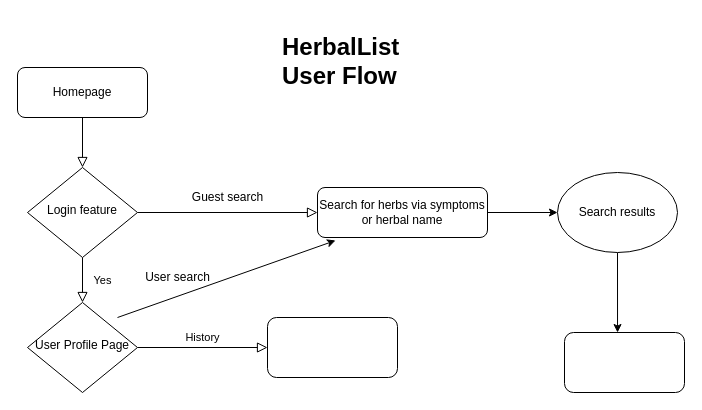
This 702x410 diagram has some shape labels left out. The centre of each missing label's shape, as x and y in pixels:
User can see previous herbs used/bookmarked: point 332,347
User selects on individual herb: point 624,362
